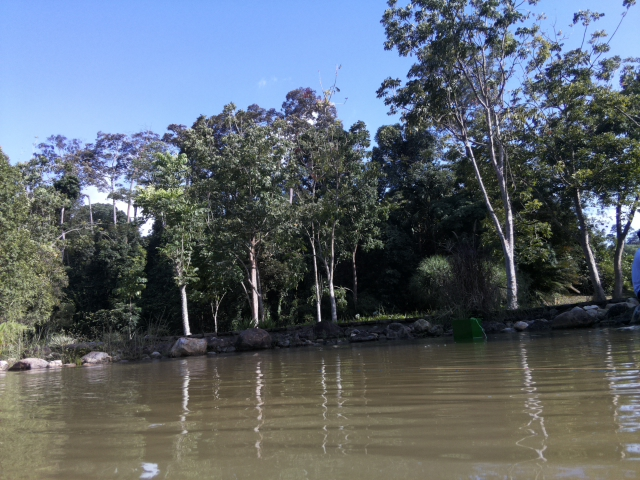obstacle: (451, 315, 489, 344)
